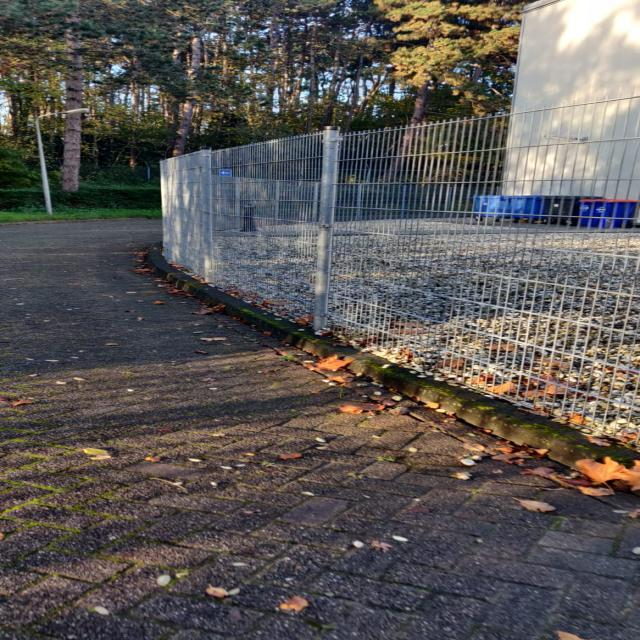fence line: (136, 135, 640, 442)
